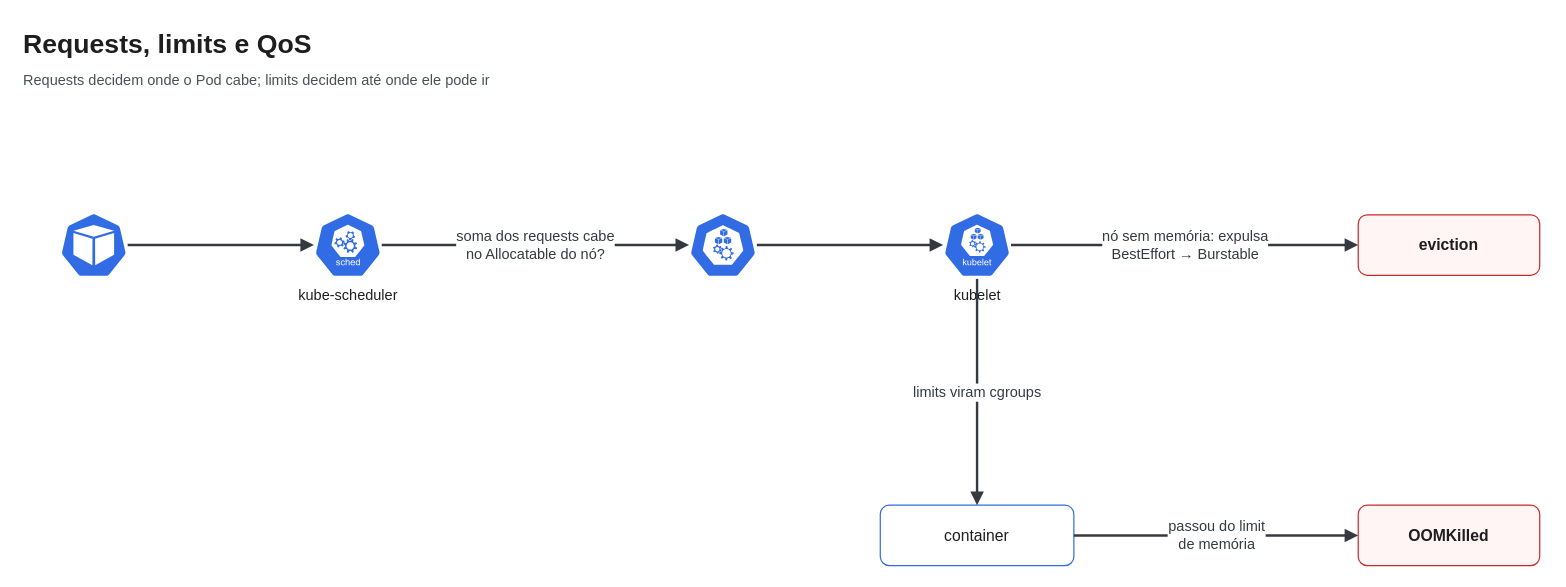
Image size: 1566x587. Some labels were removed from this diagram. The box of each missing label's shape, as (x1, y1, x2, y2) in pixels:
nó: (688, 210, 757, 279)
Pod com requests: (59, 210, 128, 279)
